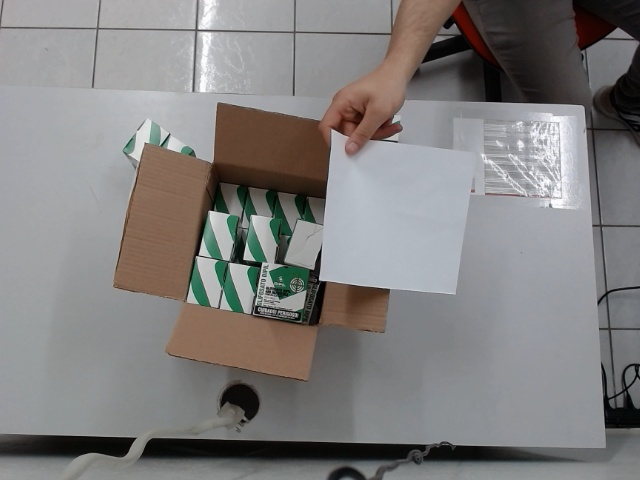divisor: (318, 124, 477, 300)
item: (252, 257, 307, 327), (188, 210, 246, 261), (120, 117, 167, 170), (217, 261, 263, 315), (184, 254, 226, 313), (242, 211, 280, 267), (285, 220, 323, 272), (214, 176, 246, 224), (243, 185, 282, 224), (276, 192, 309, 231), (162, 134, 196, 164)
